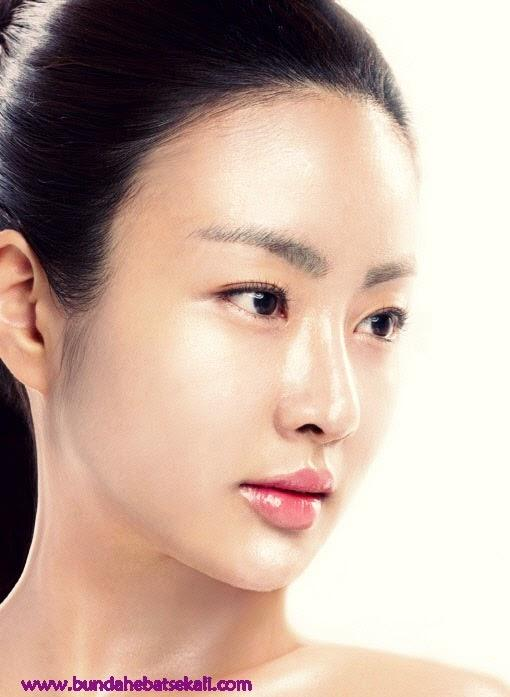Oily-Skin: (213, 113, 310, 225), (324, 302, 362, 441), (285, 307, 311, 406)
